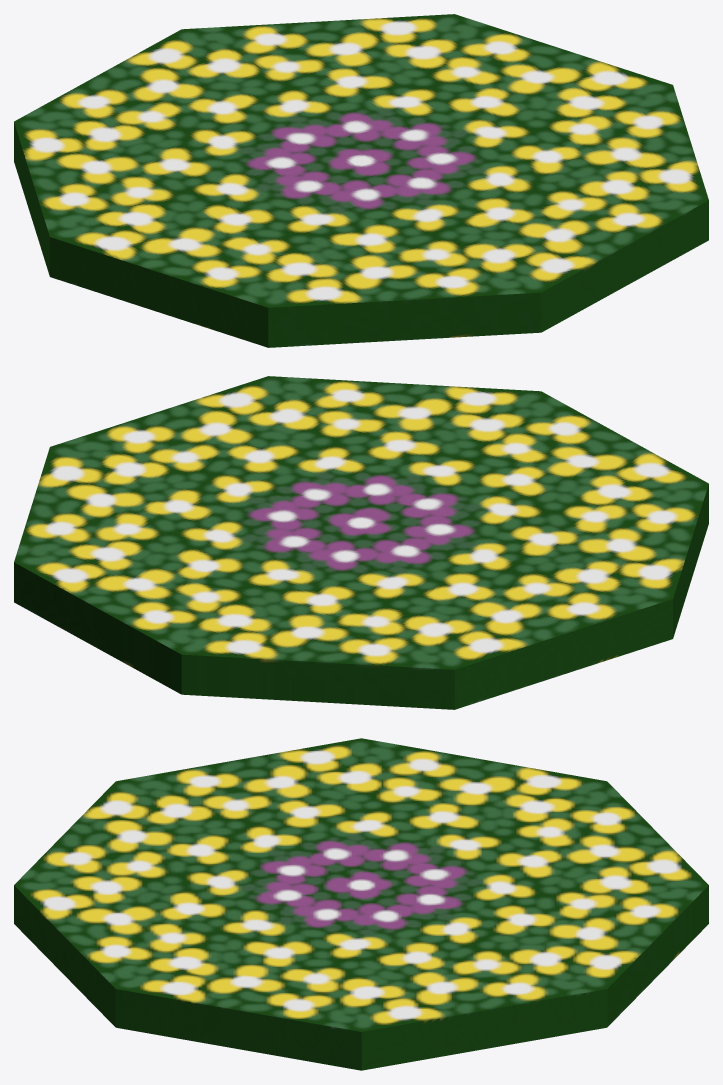
The model's file is flowers.glb.
3 renders of one model, top to bottom at view 1: azimuth 30°, elevation 25°; view 2: azimuth 150°, elevation 25°; view 3: azimuth 270°, elevation 25°, orthographic. The views are drawn at different scales.
Parts seen in each view (by area): view 1: flowerBed_geo; view 2: flowerBed_geo; view 3: flowerBed_geo.
Boxes of the visible parts, left/top/right/bottom form: flowerBed_geo: left=14, top=14, right=708, bottom=347; flowerBed_geo: left=14, top=376, right=708, bottom=709; flowerBed_geo: left=14, top=738, right=708, bottom=1070.
Size of the model in its own units: 0.7375 by 0.0453 by 0.7375.
1 material, 1 textured.
